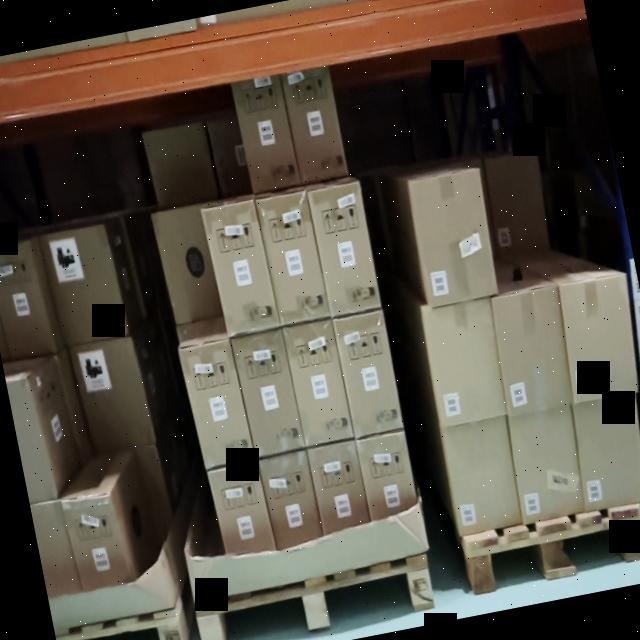box: (412, 171, 496, 304), (492, 285, 571, 418), (424, 297, 506, 423), (560, 271, 638, 403), (204, 202, 280, 336), (440, 416, 522, 534), (44, 226, 126, 344), (308, 183, 380, 316), (72, 338, 155, 453), (232, 329, 306, 456), (258, 193, 329, 325), (333, 309, 405, 435), (509, 405, 584, 523), (284, 320, 354, 446), (184, 342, 253, 469), (154, 208, 222, 324), (573, 394, 640, 511), (282, 66, 348, 182), (234, 76, 298, 191), (64, 492, 135, 588), (0, 240, 55, 357), (144, 124, 218, 206), (260, 452, 322, 546), (213, 462, 273, 554), (310, 442, 371, 530), (7, 379, 50, 502), (358, 432, 418, 511)
